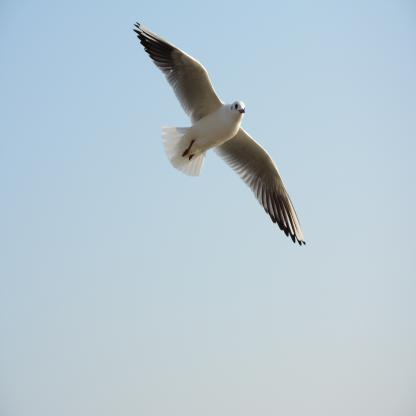bird: (132, 21, 306, 246)
